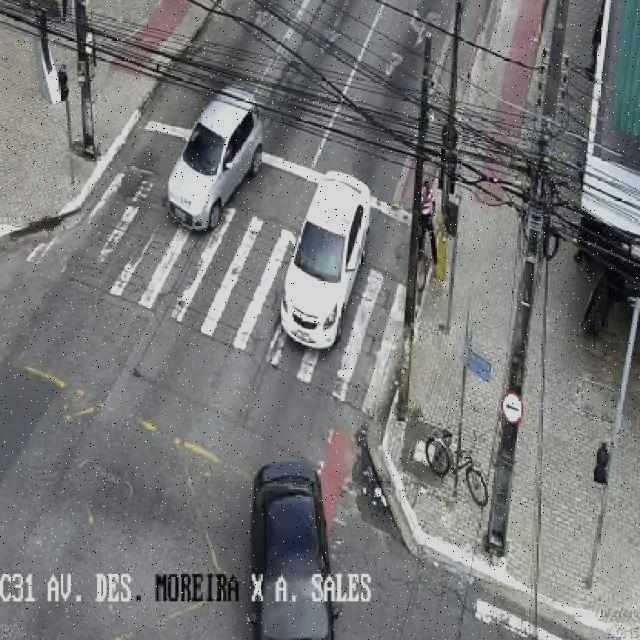Car: (275, 170, 373, 350), (245, 460, 342, 640), (165, 83, 266, 233)
Cycle: (425, 428, 490, 506)
